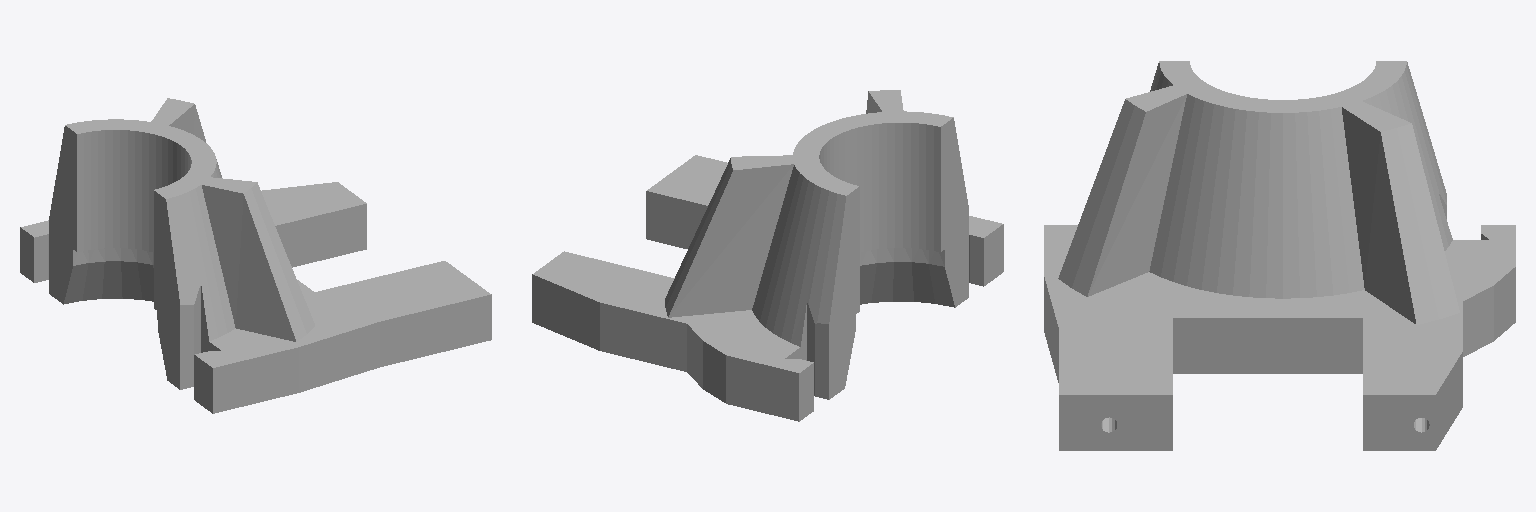
robot.urdf — root:
<?xml version='1.0' encoding='utf-8'?>
<robot name="root">
  <link name="link_001">
    <visual>
      <origin xyz="0 0 0" rpy="0 0 0" />
      <geometry>
        <mesh filename="45add60dd2745d307998d7842b2eb17c544dd1e7faac530c4aec25381d6f79b8_scale_000.stl" scale="1.0000E+00 1.0000E+00 1.0000E+00" />
      </geometry>
      <material name="">
        <color rgba="7.50E-01 7.50E-01 7.50E-01 1" />
      </material>
    </visual>
    <collision>
      <origin xyz="0 0 0" rpy="0 0 0" />
      <geometry>
        <mesh filename="45add60dd2745d307998d7842b2eb17c544dd1e7faac530c4aec25381d6f79b8_scale_000.stl" scale="1.0000E+00 1.0000E+00 1.0000E+00" />
      </geometry>
    </collision>
  </link>
</robot>

--- What the picture shows (computed from the rendered views, not written in the file) ---
3 views of the same robot in one strip: view 1: azimuth 30°, elevation 25°; view 2: azimuth 150°, elevation 25°; view 3: azimuth 270°, elevation 25° (orthographic).
Model root with 1 links and 0 joints (none), rooted at link_001, posed all joints at 0.
Links seen in each view (by area): view 1: link_001; view 2: link_001; view 3: link_001.
Boxes of the visible links, x1=… form: link_001: x1=20, y1=98, x2=491, y2=413; link_001: x1=532, y1=90, x2=1003, y2=421; link_001: x1=1044, y1=61, x2=1515, y2=450.
Size in the robot's own frame: 0.1024 by 0.12 by 0.0621 metres.
1 mesh visuals loaded from 1 distinct referenced files (1 binary STL).
